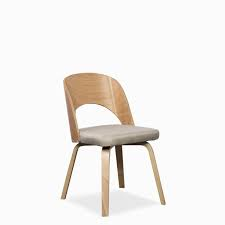tiyarina: (46, 67, 172, 217)
